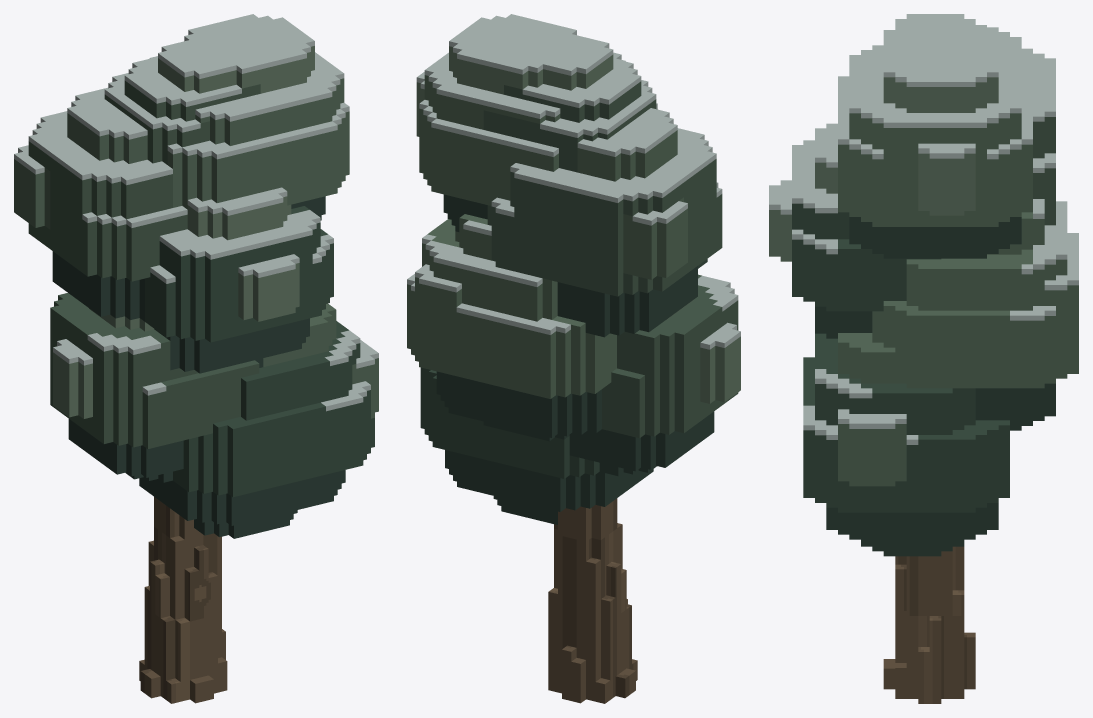
Rendered from juniper_ancient_winter_2_picked.glb.
3 views of the same model, side by side, from view 1: azimuth 30°, elevation 25°; view 2: azimuth 150°, elevation 25°; view 3: azimuth 270°, elevation 25° (orthographic). The views are drawn at different scales.
Parts seen in each view (by area): view 1: VoxelVisual; view 2: VoxelVisual; view 3: VoxelVisual.
Boxes of the visible parts, bbox=[...] form: VoxelVisual: bbox=[14, 14, 378, 703]; VoxelVisual: bbox=[407, 14, 740, 703]; VoxelVisual: bbox=[769, 14, 1078, 703].
Size of what is drawn, in the model's own units: 7.75 by 16 by 6.75.
